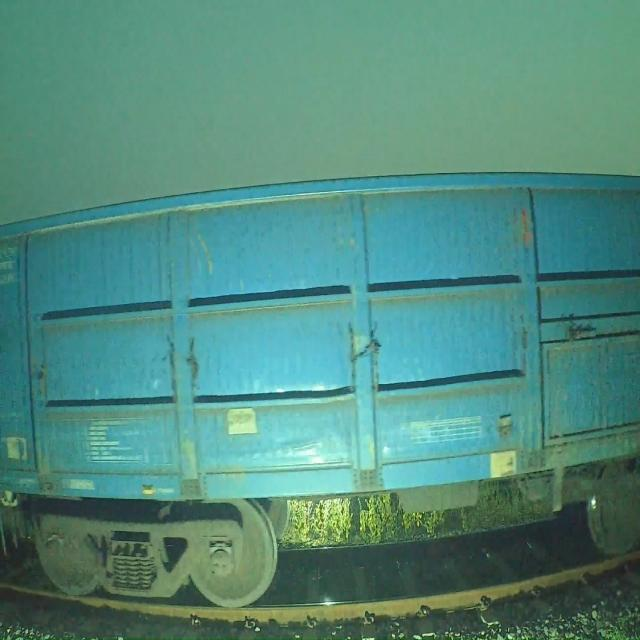WAgon-uic: (2, 166, 640, 605)
